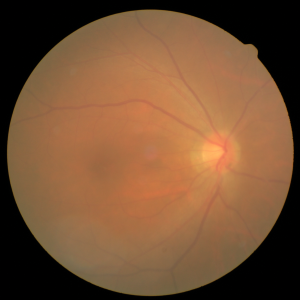cataract: (57, 101, 264, 216)
